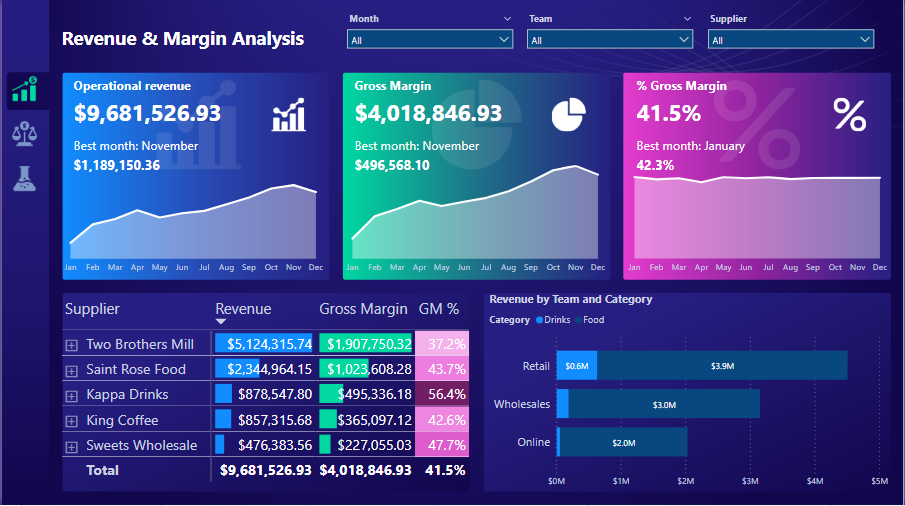

What the dashboard file says about the page in this screenshot:
{"tool":"powerbi","page":{"name":"Revenue & Margin","canvas":[1280,720],"ordinal":0},"visuals":[{"type":"barChart","fields":{"Category":["Revenue.Team"],"Y":["Revenue.Revenue"],"Series":["Product.Category"]},"box":[688,416,576,288],"z":0},{"type":"pivotTable","fields":{"Rows":["Product.Supplier","Product.Group"],"Values":["Revenue.Revenue","Revenue.Gross Margin","Revenue.GM %"]},"box":[80,416,592,288],"z":1000},{"type":"multiRowCard","title":"Operational revenue","fields":{"Values":["Revenue.Revenue"]},"box":[96,112,368,80],"z":2000},{"type":"areaChart","fields":{"Y":["Revenue.Revenue"],"Category":["Date.MonthName"]},"box":[80,224,384,176],"z":3000},{"type":"multiRowCard","title":"Operational revenue","fields":{"Values":["KeyMeasures.Title Best Month","Revenue.Revenue"]},"box":[96,192,368,80],"z":4000},{"type":"textbox","box":[80,32,384,64],"z":5000},{"type":"slicer","fields":{"Values":["Date.Date.Variation.Date Hierarchy.Month"]},"box":[480,16,256,80],"z":6000},{"type":"slicer","fields":{"Values":["Revenue.Team"]},"box":[736,16,256,80],"z":7000},{"type":"slicer","fields":{"Values":["Product.Supplier"]},"box":[992,16,256,80],"z":8000},{"type":"multiRowCard","title":"Gross Margin","fields":{"Values":["KeyMeasures.Gross Margin"]},"box":[496,112,368,80],"z":9000},{"type":"areaChart","fields":{"Category":["Date.MonthName"],"Y":["KeyMeasures.Gross Margin"]},"box":[480,224,384,176],"z":10000},{"type":"multiRowCard","title":"Operational revenue","fields":{"Values":["KeyMeasures.Title Best Month","KeyMeasures.Gross Margin"]},"box":[496,192,368,80],"z":11000},{"type":"multiRowCard","title":"% Gross Margin","fields":{"Values":["KeyMeasures.GM %"]},"box":[896,112,368,80],"z":12000},{"type":"multiRowCard","title":"Operational revenue","fields":{"Values":["KeyMeasures.Title Best Month","KeyMeasures.GM %"]},"box":[896,192,368,80],"z":13000},{"type":"areaChart","fields":{"Category":["Date.MonthName"],"Y":["KeyMeasures.GM %"]},"box":[880,240,384,160],"z":14000},{"type":"image","box":[0,96,64,64],"z":15000},{"type":"image","box":[0,160,64,64],"z":16000},{"type":"image","box":[0,224,64,64],"z":17000}]}

Visuals, with their boxes in screenshot pixels (x1, y1, x2, y2), scaled from the page's 1280x720 canvas onto the 905x506 screenshot:
barChart - Revenue.Team x Revenue.Revenue: <region>486, 292, 894, 495</region>
pivotTable - Product.Supplier x Product.Group: <region>57, 292, 475, 495</region>
"Operational revenue" multiRowCard: <region>68, 79, 328, 135</region>
areaChart - Revenue.Revenue x Date.MonthName: <region>57, 157, 328, 281</region>
"Operational revenue" multiRowCard: <region>68, 135, 328, 191</region>
textbox: <region>57, 22, 328, 67</region>
slicer - Date.Date.Variation.Date Hierarchy.Month: <region>339, 11, 520, 67</region>
slicer - Revenue.Team: <region>520, 11, 701, 67</region>
slicer - Product.Supplier: <region>701, 11, 882, 67</region>
"Gross Margin" multiRowCard: <region>351, 79, 611, 135</region>
areaChart - Date.MonthName x KeyMeasures.Gross Margin: <region>339, 157, 611, 281</region>
"Operational revenue" multiRowCard: <region>351, 135, 611, 191</region>
"% Gross Margin" multiRowCard: <region>634, 79, 894, 135</region>
"Operational revenue" multiRowCard: <region>634, 135, 894, 191</region>
areaChart - Date.MonthName x KeyMeasures.GM %: <region>622, 169, 894, 281</region>
image: <region>0, 67, 45, 112</region>
image: <region>0, 112, 45, 157</region>
image: <region>0, 157, 45, 202</region>
